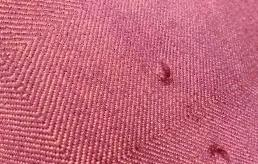knot: (156, 59, 177, 86), (208, 142, 232, 161)
